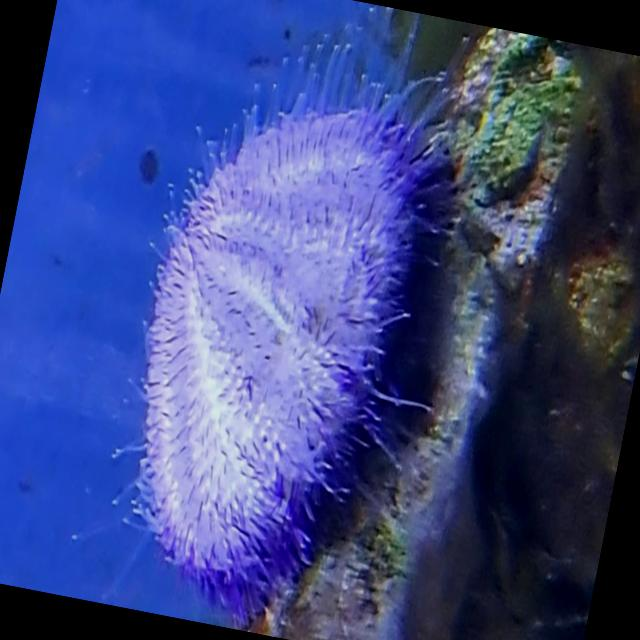Deniz Kestanesi: (80, 9, 484, 640)
